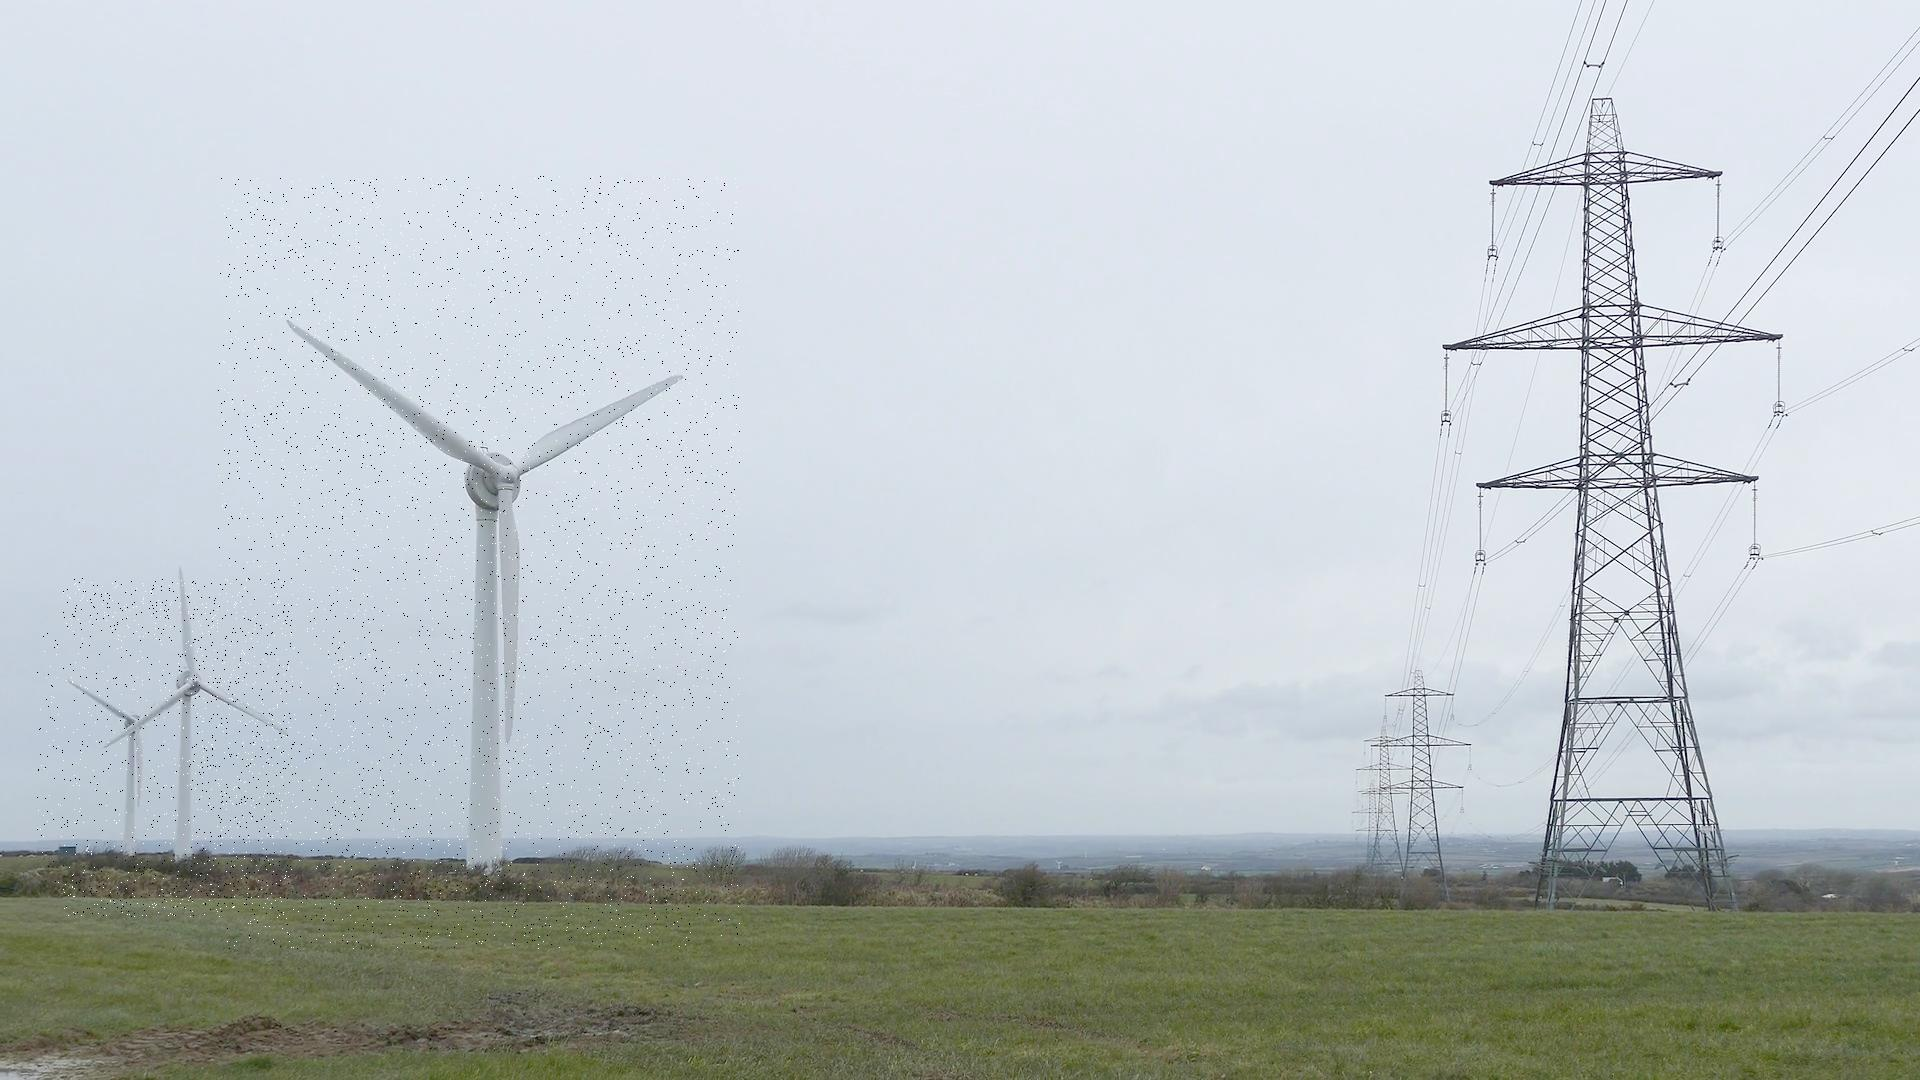cable tower: (1441, 94, 1783, 914), (1371, 669, 1473, 898), (1356, 723, 1412, 876), (1352, 785, 1390, 868)
turbine: (218, 175, 740, 949), (63, 579, 293, 918), (37, 633, 193, 887)
